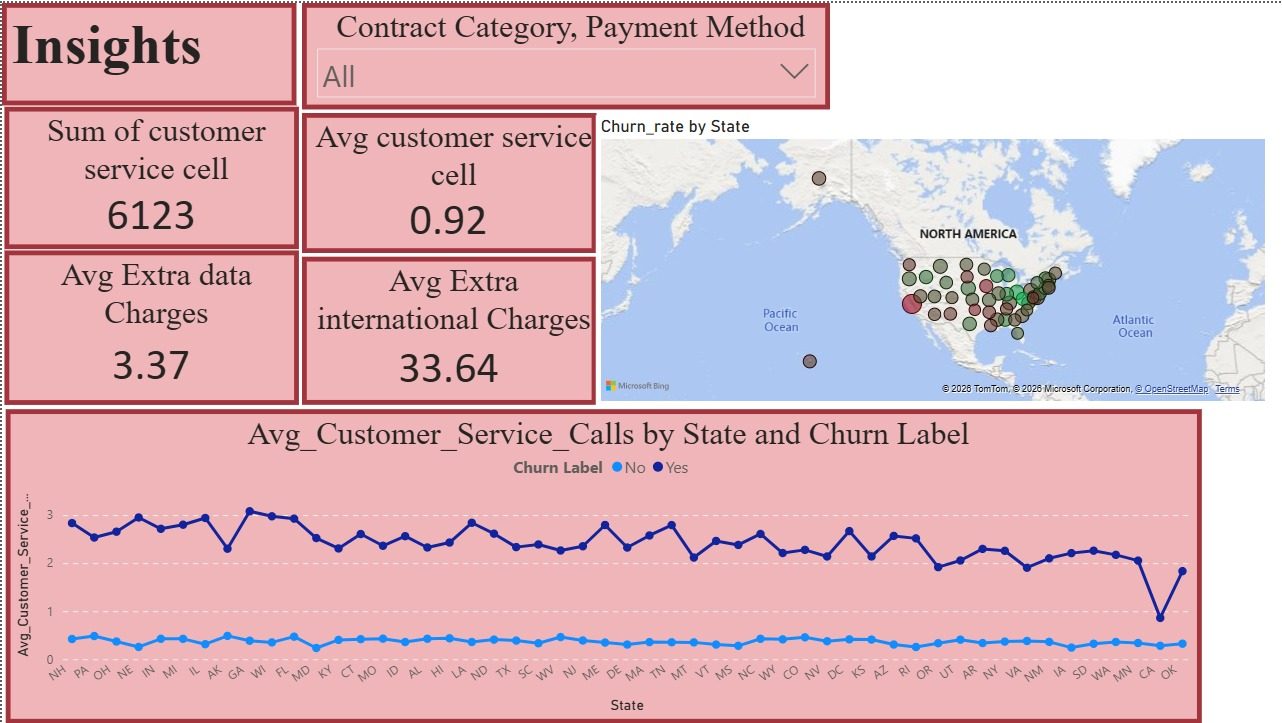

Layout of this report page (visuals, bound fields, positions):
{"tool":"powerbi","page":{"name":"Insights","canvas":[1280,720],"ordinal":1},"visuals":[{"type":"card","title":"Sum of customer service cell","fields":{"Values":["Sum(Databel - Data.Customer Service Calls)"]},"box":[2,104,294,142],"z":0},{"type":"card","title":"Avg customer service cell","fields":{"Values":["_all measure.Avg_Customer_Service_Calls"]},"box":[300,110,294,140],"z":1000},{"type":"slicer","title":"Contract Category, Payment Method","fields":{"Values":["Databel - Data.Contract_Category","Databel - Data.Payment Method"]},"box":[300,0,528,106],"z":3000},{"type":"card","title":"Avg Extra data Charges","fields":{"Values":["_all measure.Avg_Extra_Data_Charges"]},"box":[2,248,294,154],"z":4000},{"type":"card","title":"Avg Extra international Charges","fields":{"Values":["_all measure.Avg_Extra_International_Charges"]},"box":[300,254,294,148],"z":5000},{"type":"textbox","box":[0,0,294,102],"z":6001},{"type":"lineChart","fields":{"Category":["Databel - Data.State"],"Y":["_all measure.Avg_Customer_Service_Calls"],"Series":["Databel - Data.Churn Label"]},"box":[4,406,1196,314],"z":6002},{"type":"map","fields":{"Category":["Databel - Data.State"],"Size":["_all measure.Churn_rate"]},"box":[594,112,674,290],"z":6003}]}

Visuals, with their boxes in screenshot pixels (x1, y1, x2, y2), scaled from the page's 1280x720 canvas onto the 1282x723 screenshot:
"Sum of customer service cell" card: crop(2, 104, 296, 247)
"Avg customer service cell" card: crop(300, 110, 595, 251)
"Contract Category, Payment Method" slicer: crop(300, 0, 829, 106)
"Avg Extra data Charges" card: crop(2, 249, 296, 404)
"Avg Extra international Charges" card: crop(300, 255, 595, 404)
textbox: crop(0, 0, 294, 102)
lineChart - Databel - Data.State x _all measure.Avg_Customer_Service_Calls: crop(4, 408, 1202, 722)
map - Databel - Data.State x _all measure.Churn_rate: crop(595, 112, 1270, 404)
